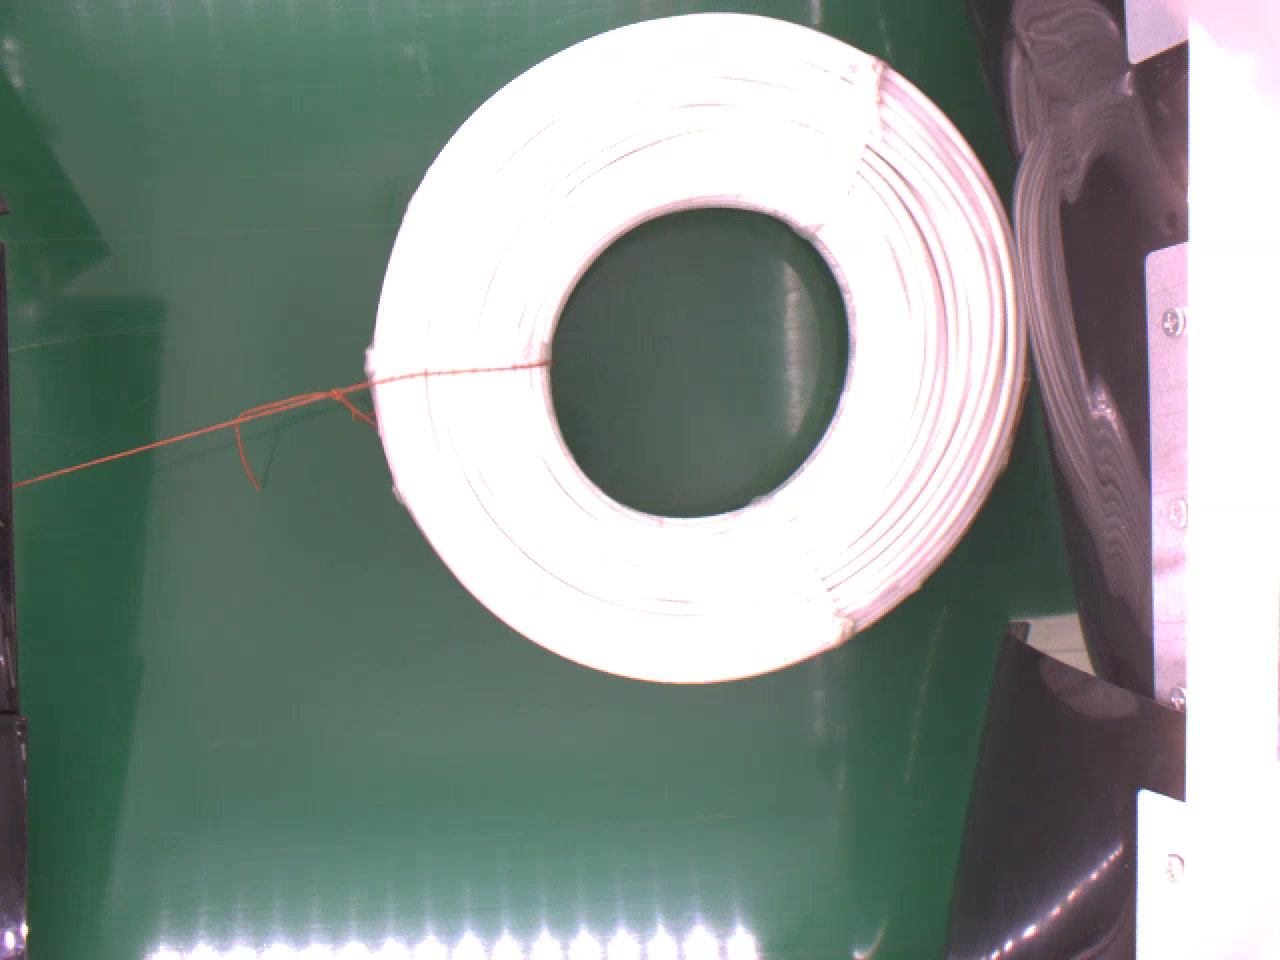white: (364, 11, 1026, 680)
